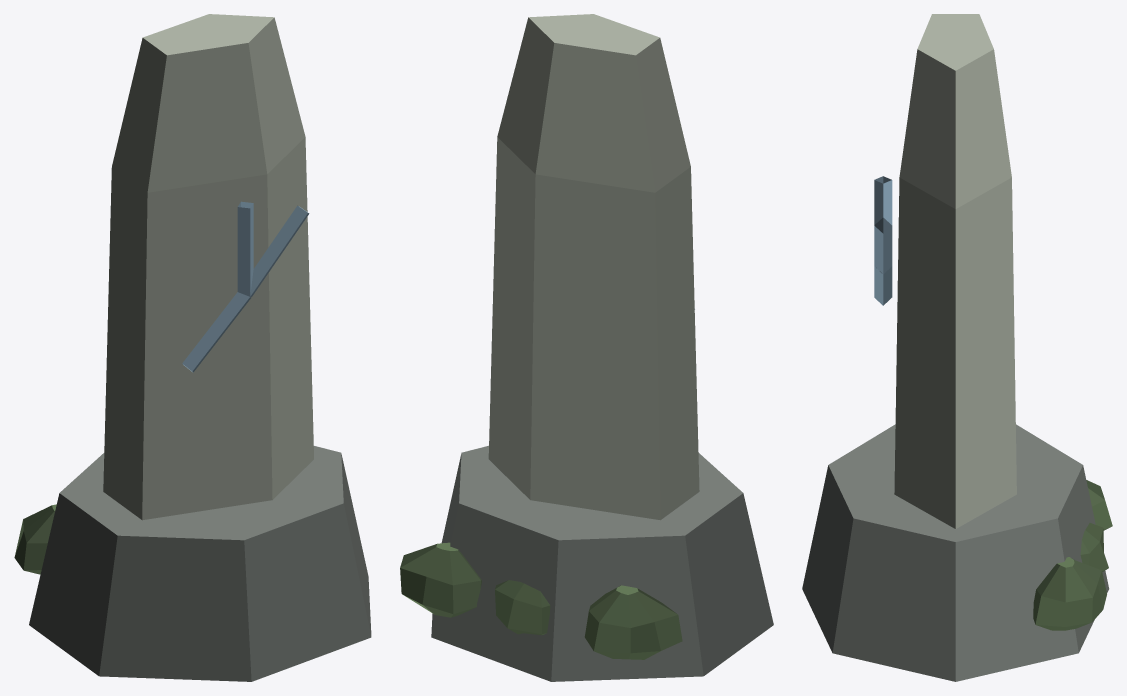
3 renders of one model, left to right at view 1: azimuth 30°, elevation 25°; view 2: azimuth 150°, elevation 25°; view 3: azimuth 270°, elevation 25°, orthographic. The views are drawn at different scales.
Visible parts, largest first — view 1: d1a6a77ace8c3542d4eb2bc12676ee78b040f6fdf70388d298927ed479c6; view 2: d1a6a77ace8c3542d4eb2bc12676ee78b040f6fdf70388d298927ed479c6; view 3: d1a6a77ace8c3542d4eb2bc12676ee78b040f6fdf70388d298927ed479c6.
Part boxes in pixels (x1,y1,x2,y2): d1a6a77ace8c3542d4eb2bc12676ee78b040f6fdf70388d298927ed479c6: [14, 14, 371, 681]; d1a6a77ace8c3542d4eb2bc12676ee78b040f6fdf70388d298927ed479c6: [400, 14, 773, 681]; d1a6a77ace8c3542d4eb2bc12676ee78b040f6fdf70388d298927ed479c6: [802, 14, 1112, 681].
Bounding box in the file's own units: 0.6843 × 1.25 × 0.6213.
Materials: 2 (1 with a texture image).
